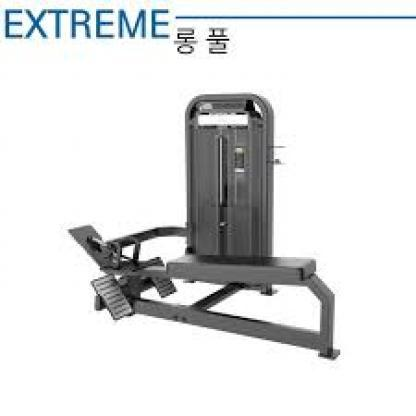Seated Cable Rows: (66, 91, 363, 361)
